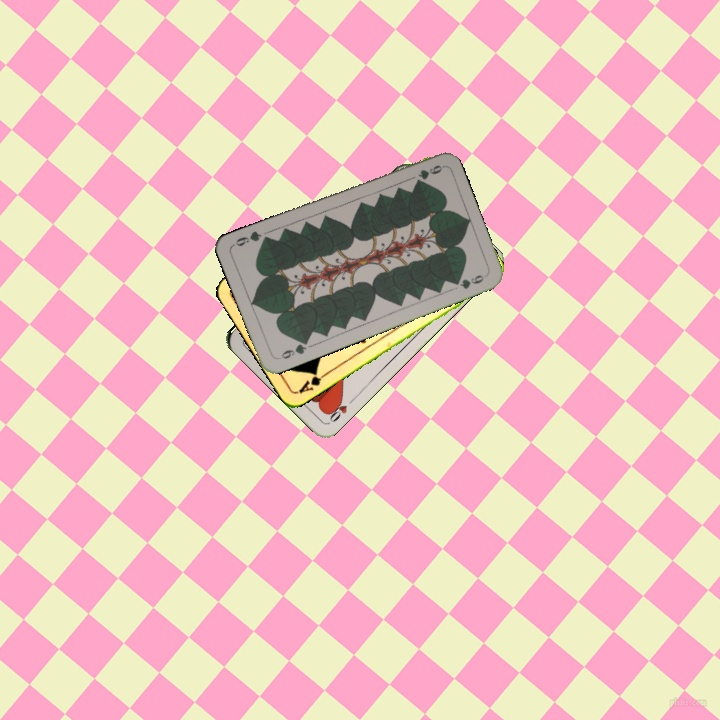G9: (274, 336, 311, 362), (414, 161, 445, 181)
GA: (295, 367, 330, 396)
HO: (323, 393, 357, 426)
